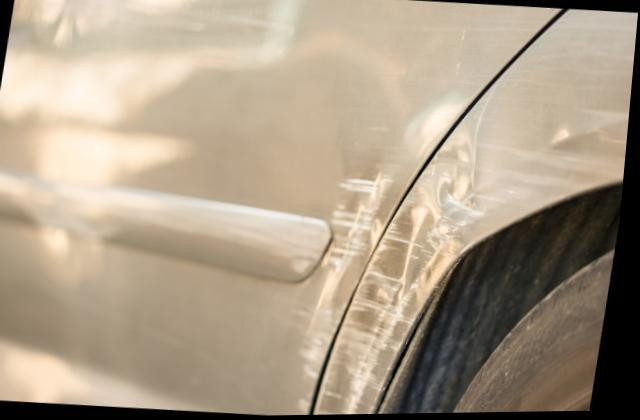scratch: (320, 146, 601, 416), (303, 168, 394, 416)
